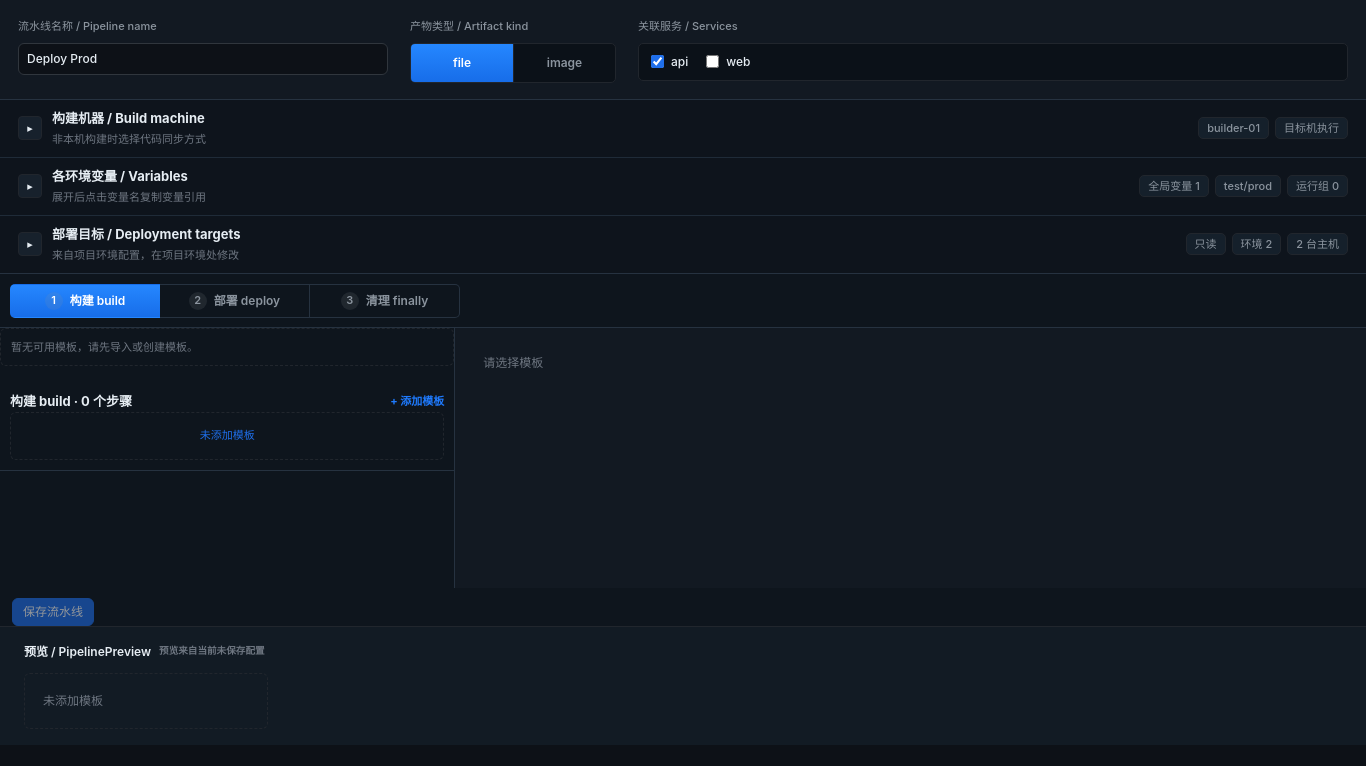
Test: SingleProjectPipelineForm › shows remote sync command only inside the opened build panel
Click the button with test id "pipeline-config-toggle-build".
click(128, 118)  # box [0,100,1365,156]
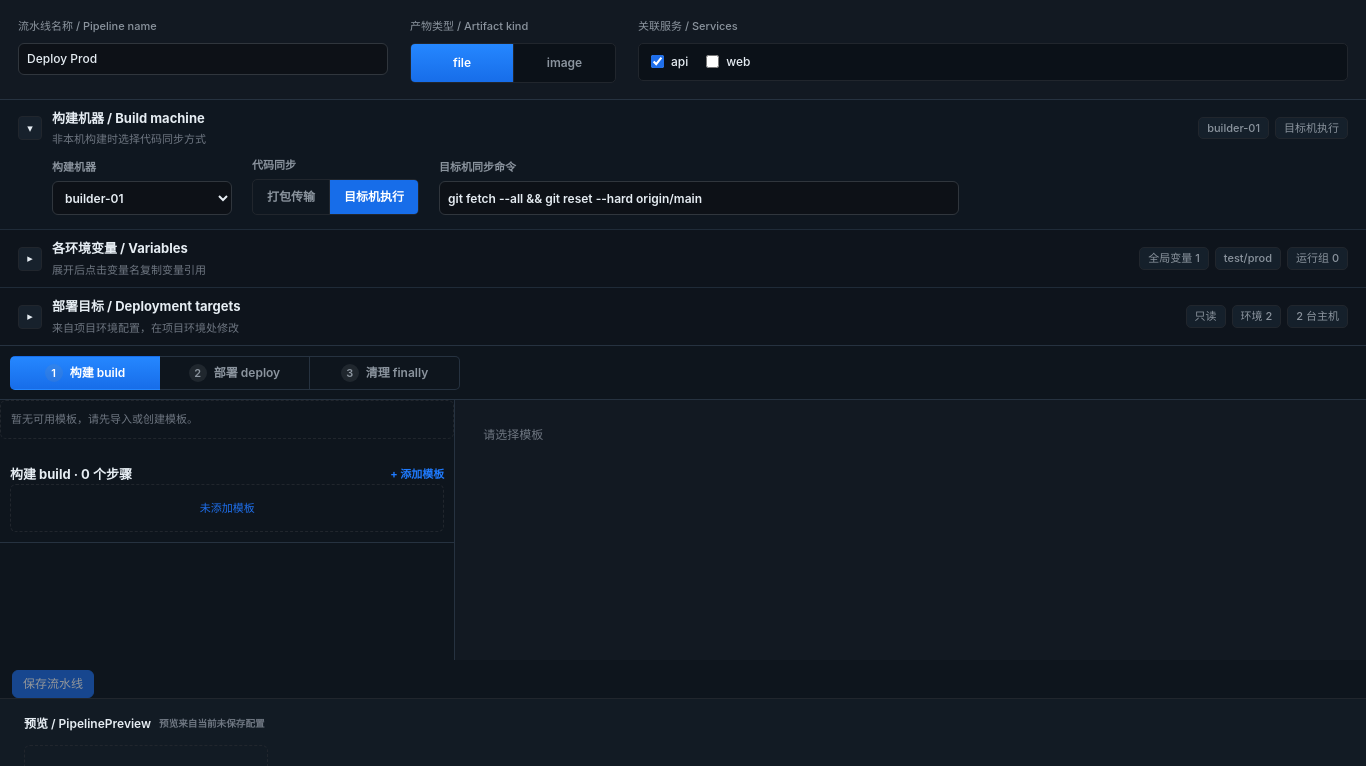
Expected: the dropdown with test id "build-config-builder" shows "builder-01", [52,181,232,215]
Expected: the element with test id "build-config-sync" is shown, [252,156,419,215]
Expected: the field with test id "build-config-sync-command" holds "git fetch --all && git reset --hard origin/main", [439,181,959,215]
